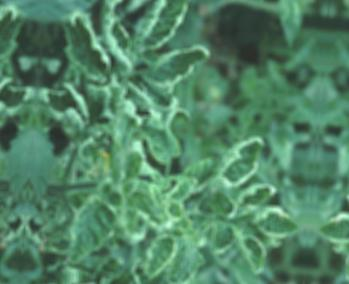Tomato leaf yellow virus: (47, 0, 123, 89), (59, 188, 127, 275), (129, 0, 205, 64), (135, 209, 195, 284), (96, 0, 142, 81), (150, 30, 223, 81), (235, 200, 309, 241), (220, 131, 268, 194), (154, 236, 211, 284), (233, 221, 270, 284)
